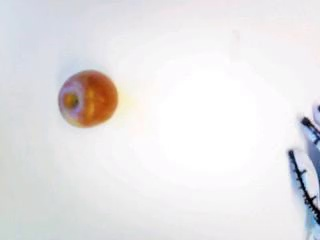apple: (56, 69, 119, 127)
